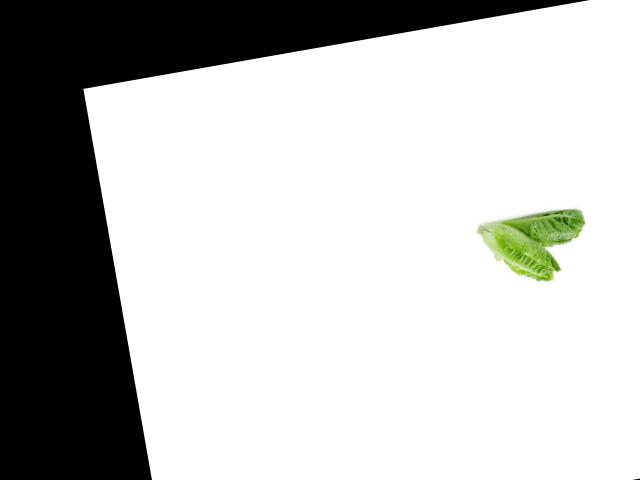lettuce: (497, 198, 595, 256)
